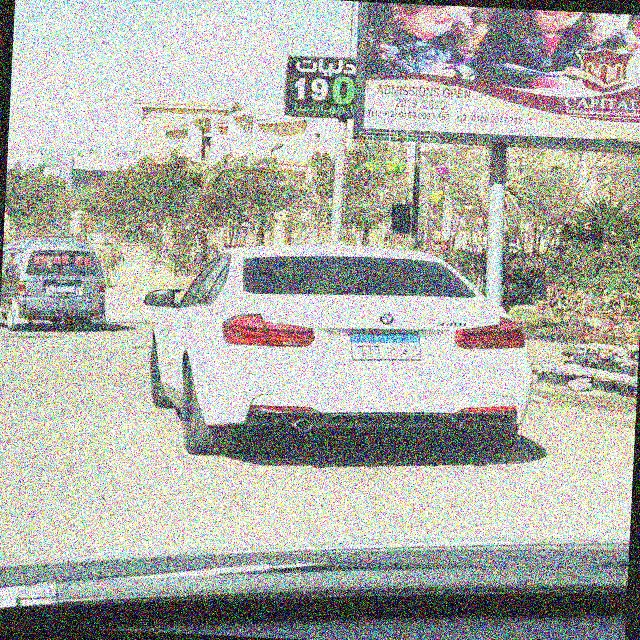License Plate: (346, 328, 425, 364)
